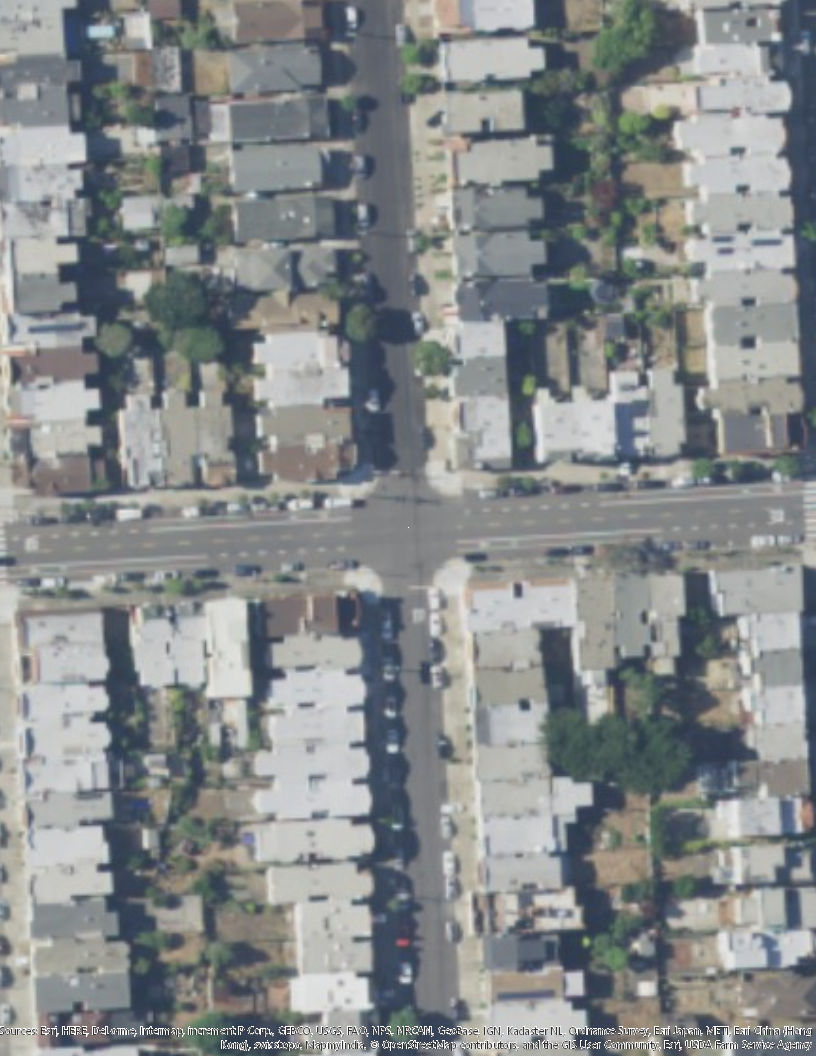zebracross: (804, 482, 816, 545)
